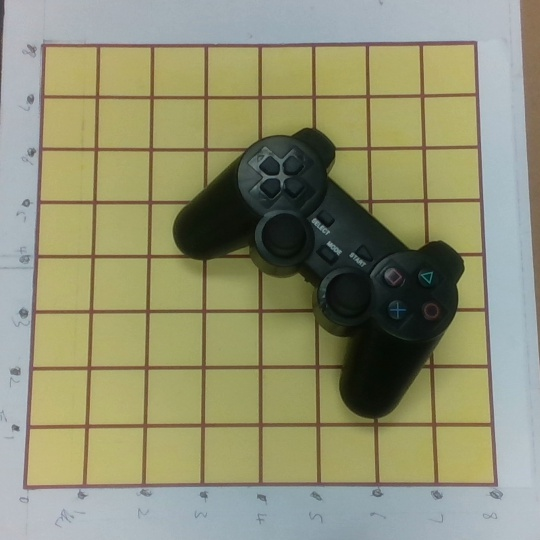remote: (173, 127, 465, 436)
